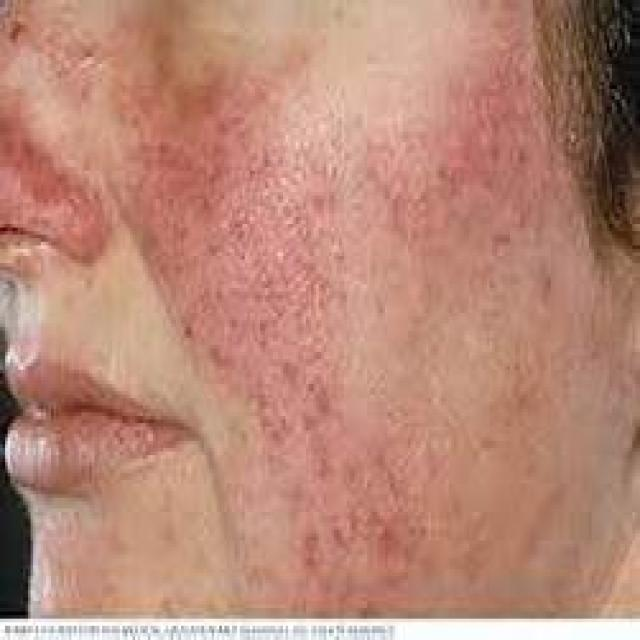Rosacea: (174, 145, 328, 388), (16, 142, 112, 235)
